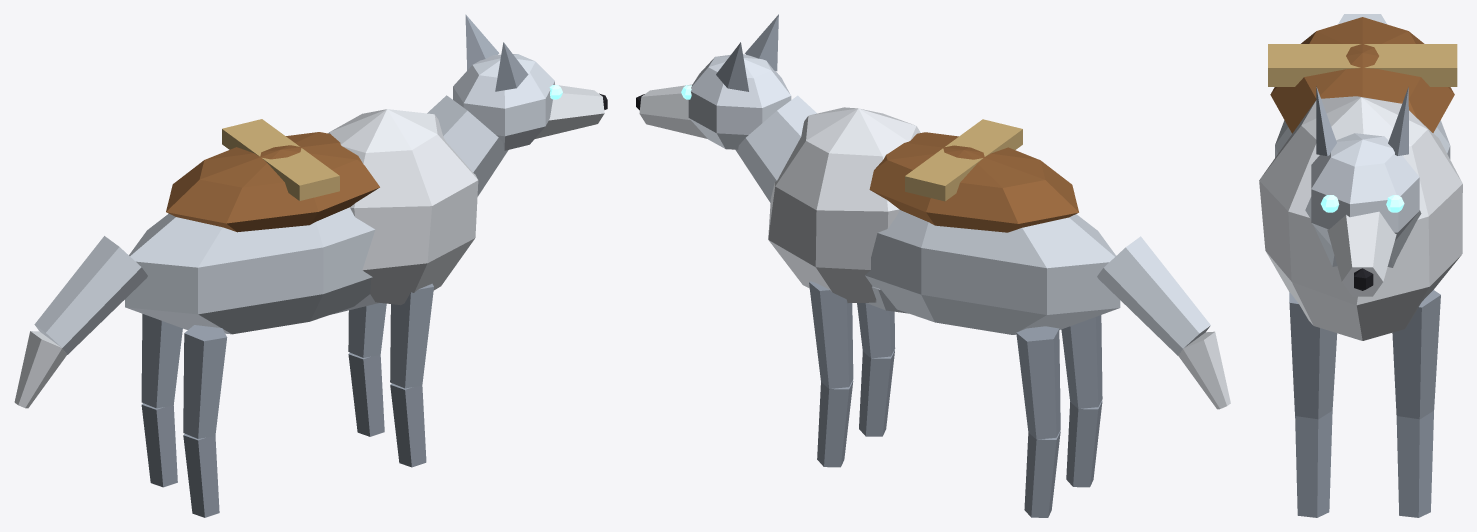
File: arctic_wolf.glb
3 views of the same model, side by side, from view 1: azimuth 30°, elevation 25°; view 2: azimuth 150°, elevation 25°; view 3: azimuth 270°, elevation 25° (orthographic). The views are drawn at different scales.
Parts seen in each view (by area): view 1: body, pet_armor, head, tail, leg_br, leg_fr, leg_bl, leg_fl; view 2: body, pet_armor, head, tail, leg_bl, leg_fl, leg_br, leg_fr; view 3: body, pet_armor, head, leg_fl, leg_fr, tail.
Part boxes in pixels (left/top/right/bottom): body: left=125, top=95, right=508, bottom=334; pet_armor: left=166, top=119, right=379, bottom=232; head: left=453, top=14, right=607, bottom=150; tail: left=14, top=236, right=147, bottom=408; leg_br: left=183, top=325, right=227, bottom=517; leg_fr: left=390, top=283, right=433, bottom=467; leg_bl: left=141, top=314, right=182, bottom=487; leg_fl: left=348, top=303, right=386, bottom=436; body: left=735, top=95, right=1120, bottom=334; pet_armor: left=869, top=119, right=1078, bottom=232; head: left=636, top=14, right=791, bottom=149; tail: left=1097, top=236, right=1230, bottom=409; leg_bl: left=1016, top=326, right=1060, bottom=517; leg_fl: left=809, top=281, right=853, bottom=467; leg_br: left=1061, top=315, right=1102, bottom=487; leg_fr: left=857, top=303, right=895, bottom=436; body: left=1259, top=96, right=1462, bottom=340; pet_armor: left=1268, top=17, right=1457, bottom=133; head: left=1311, top=86, right=1419, bottom=296; leg_fl: left=1392, top=290, right=1440, bottom=517; leg_fr: left=1289, top=292, right=1337, bottom=517; tail: left=1338, top=14, right=1386, bottom=24.
Size of the model in its own units: 1.8 by 1.15 by 0.4417.
